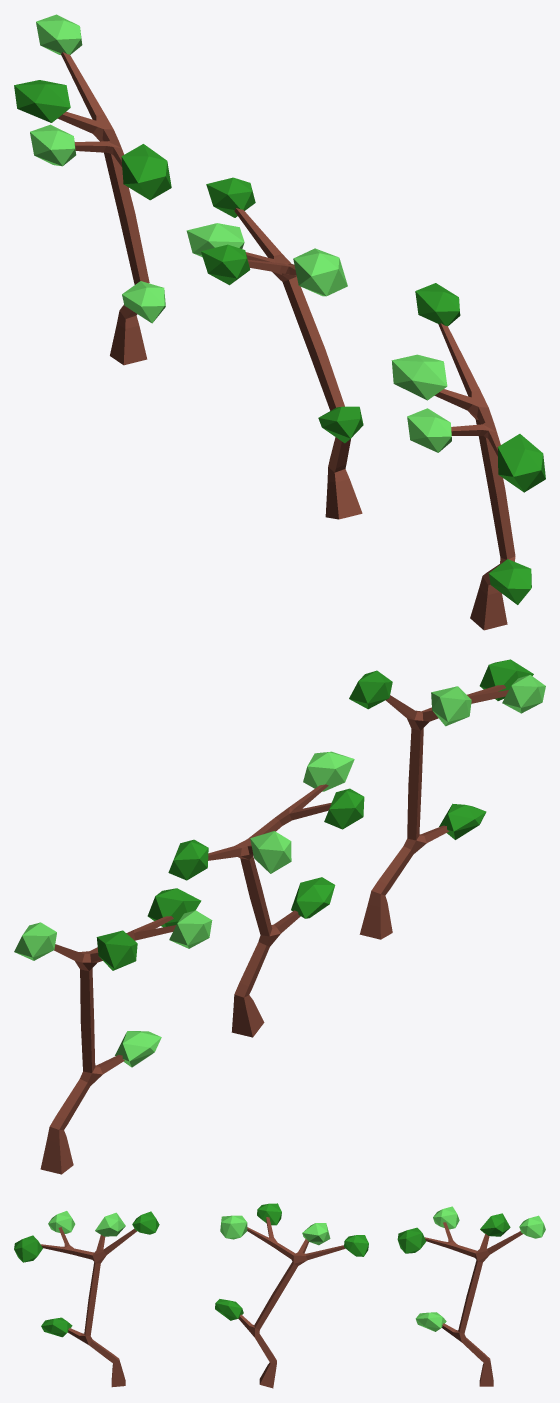
The model's file is TesteArvore.fbx.
3 views of the same model, one above another, from view 1: azimuth 30°, elevation 25°; view 2: azimuth 150°, elevation 25°; view 3: azimuth 270°, elevation 25° (orthographic). The views are drawn at different scales.
Visible parts, largest first — view 1: tronco.001, tronco.003, tronco.002; view 2: tronco.002, tronco.003, tronco.001; view 3: tronco.002, tronco.003, tronco.001.
Boxes of the visible parts, left/top/right/bottom form: tronco.001: left=391, top=283, right=545, bottom=630; tronco.003: left=14, top=14, right=171, bottom=365; tronco.002: left=186, top=177, right=363, bottom=519; tronco.002: left=168, top=751, right=364, bottom=1037; tronco.003: left=14, top=888, right=212, bottom=1174; tronco.001: left=349, top=659, right=545, bottom=939; tronco.002: left=215, top=1203, right=368, bottom=1388; tronco.003: left=397, top=1206, right=545, bottom=1386; tronco.001: left=14, top=1211, right=159, bottom=1387.
Size of the model in its own units: 200 by 425 by 1243.
